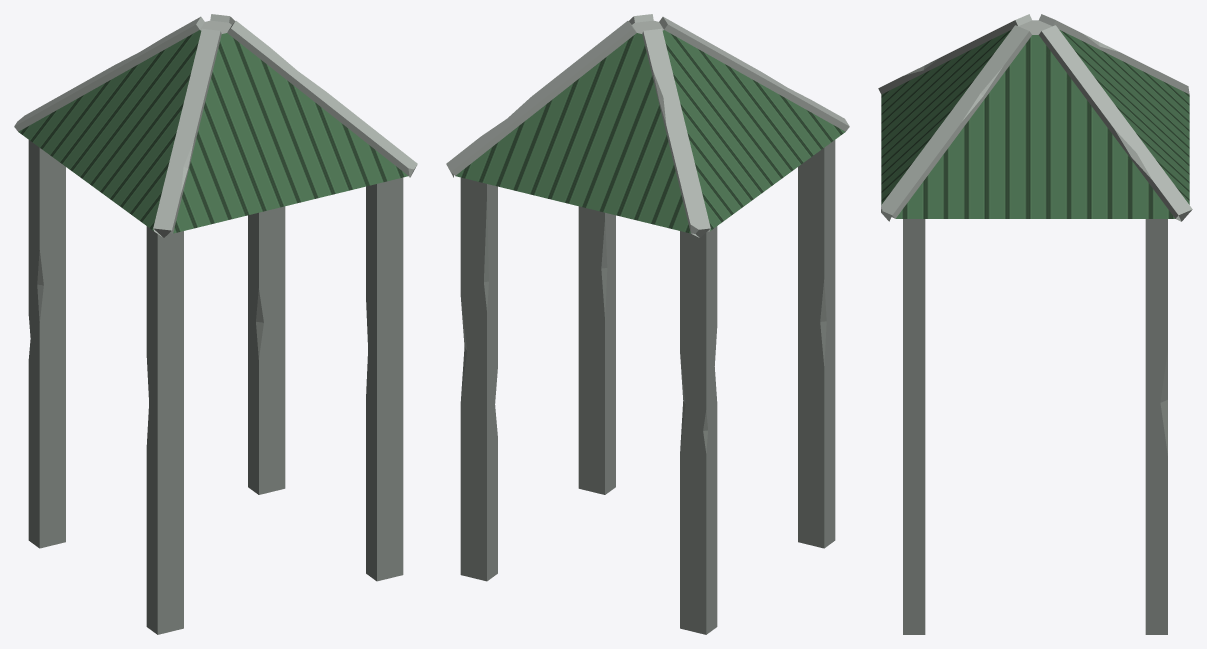
The model's file is SM_Env_Stall_13.fbx.
The picture shows the model from 3 angles, left to right: view 1: azimuth 30°, elevation 25°; view 2: azimuth 150°, elevation 25°; view 3: azimuth 270°, elevation 25°; orthographic projection. The views are drawn at different scales.
Parts seen in each view (by area): view 1: SM_Env_Stall_13; view 2: SM_Env_Stall_13; view 3: SM_Env_Stall_13.
Boxes of the visible parts, x1,y1,x2,y2 form: SM_Env_Stall_13: (14, 14, 417, 634); SM_Env_Stall_13: (446, 14, 849, 634); SM_Env_Stall_13: (878, 14, 1192, 634).
Size of the model in its own units: 123 by 238 by 123.
Materials: 1 (1 with a texture image).
